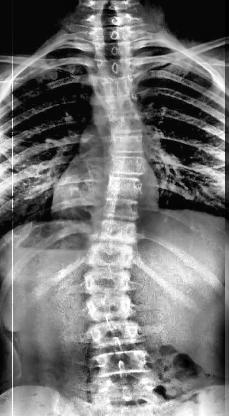Vertebrae: (92, 350, 156, 378), (88, 321, 148, 349), (78, 266, 132, 294), (84, 238, 134, 268), (85, 216, 137, 244), (82, 294, 136, 320), (96, 114, 150, 136), (99, 134, 150, 156), (102, 156, 152, 178), (103, 175, 147, 199), (88, 72, 138, 92), (100, 197, 144, 219), (93, 92, 140, 112), (91, 42, 137, 60), (92, 57, 134, 75)
